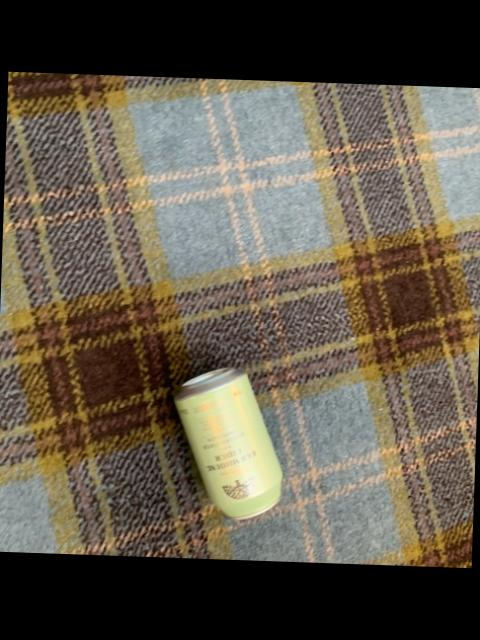metal: (176, 367, 282, 518)
